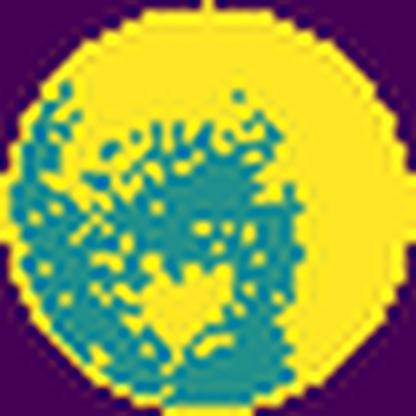Edge-Loc: (56, 0, 415, 388)
